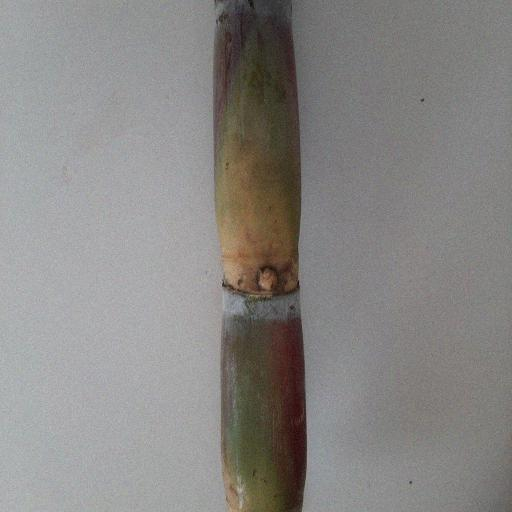Bud: (257, 265, 279, 293)
